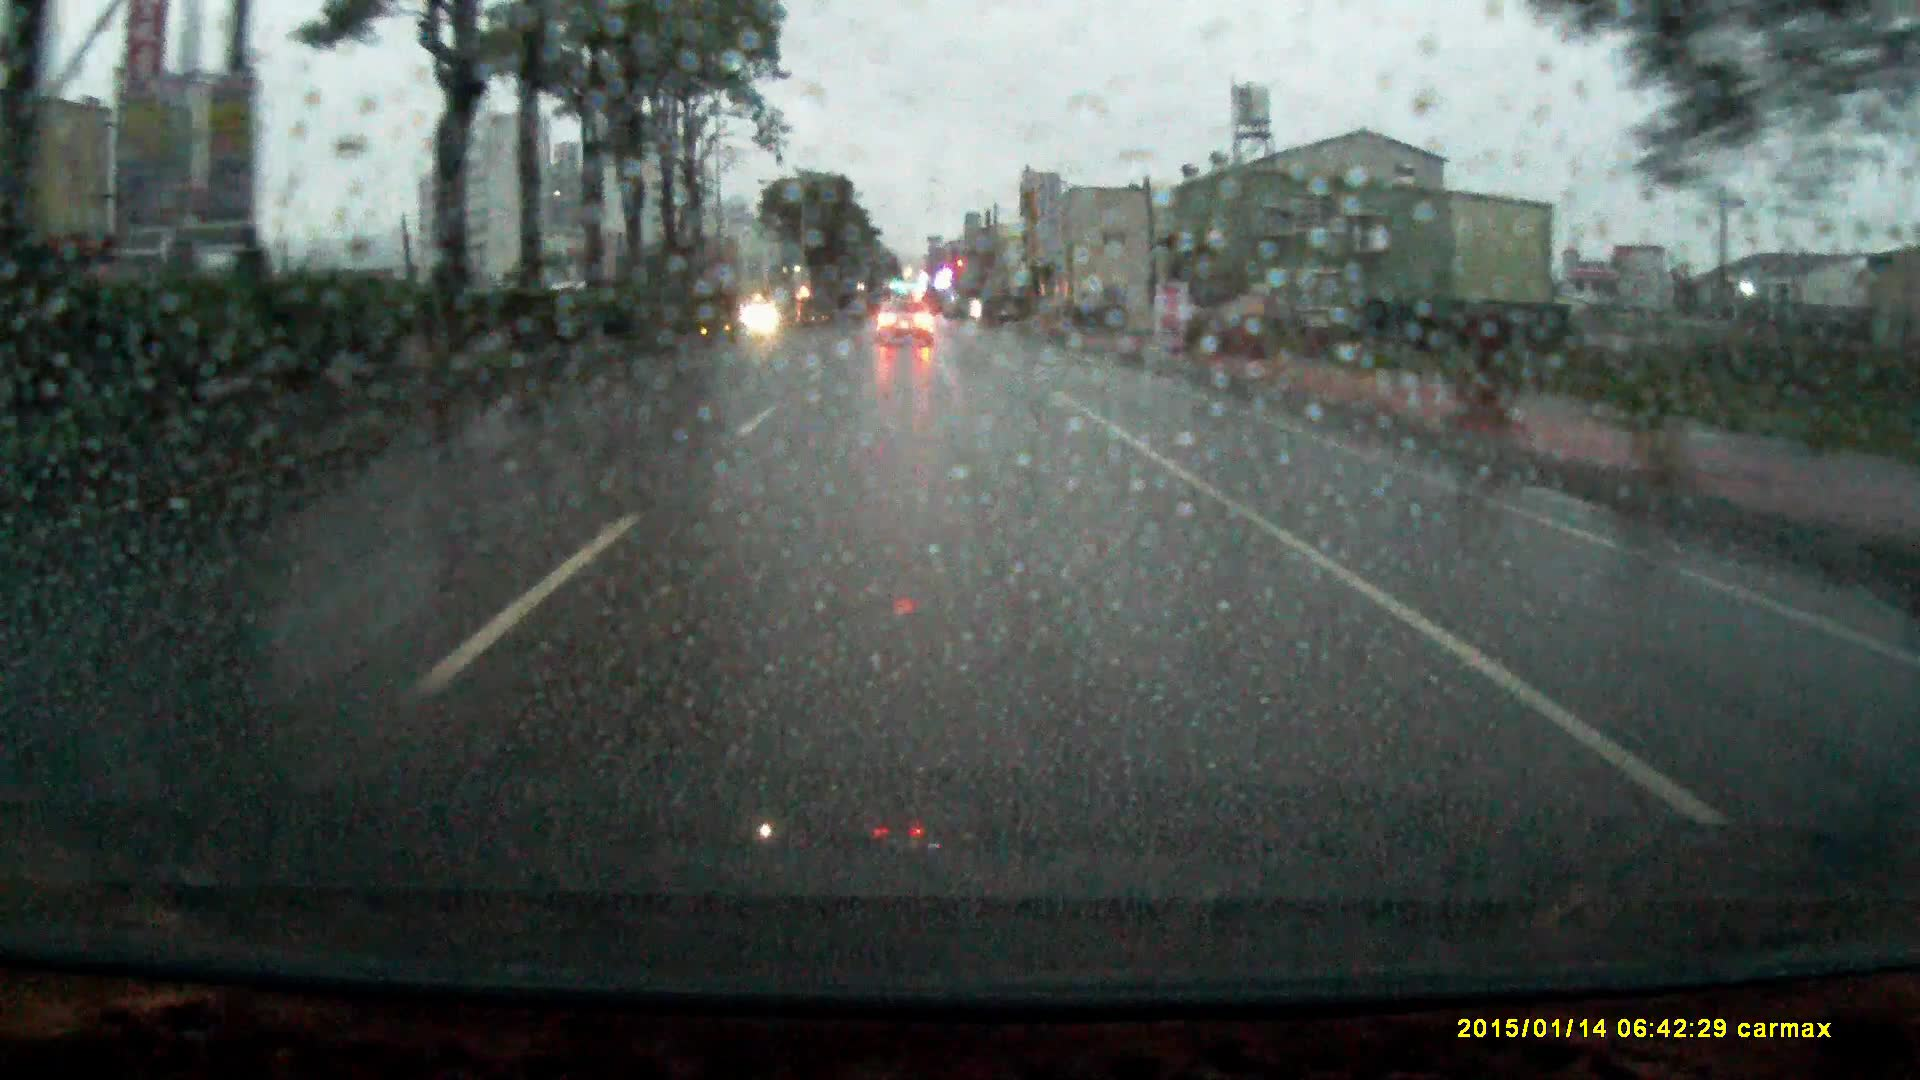vehicle: (876, 299, 935, 348)
